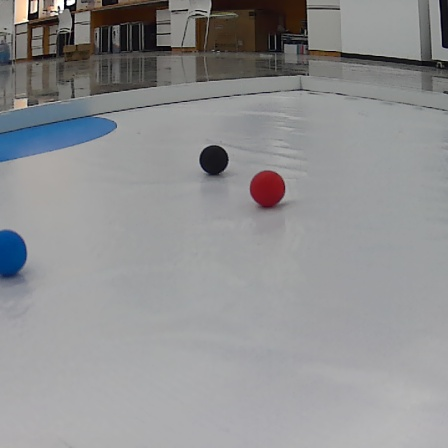black: (200, 141, 233, 177)
blue: (0, 225, 28, 278)
blue_base: (1, 115, 123, 159)
red: (249, 170, 286, 208)
